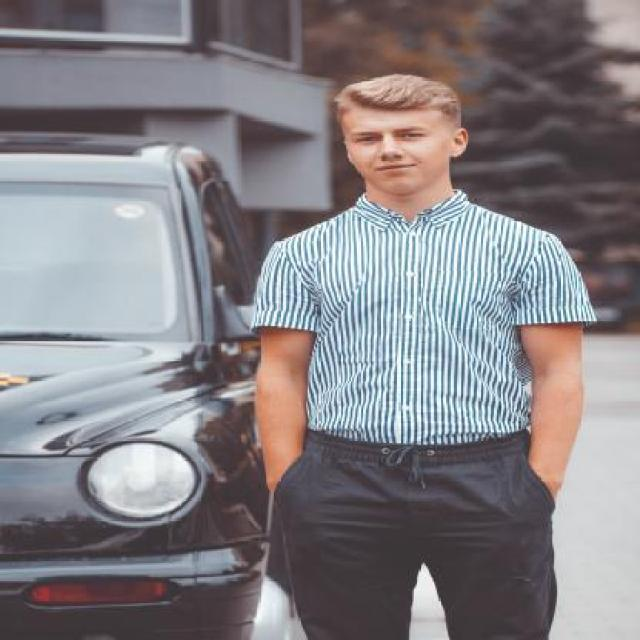closed-mouth: (374, 164, 416, 173)
